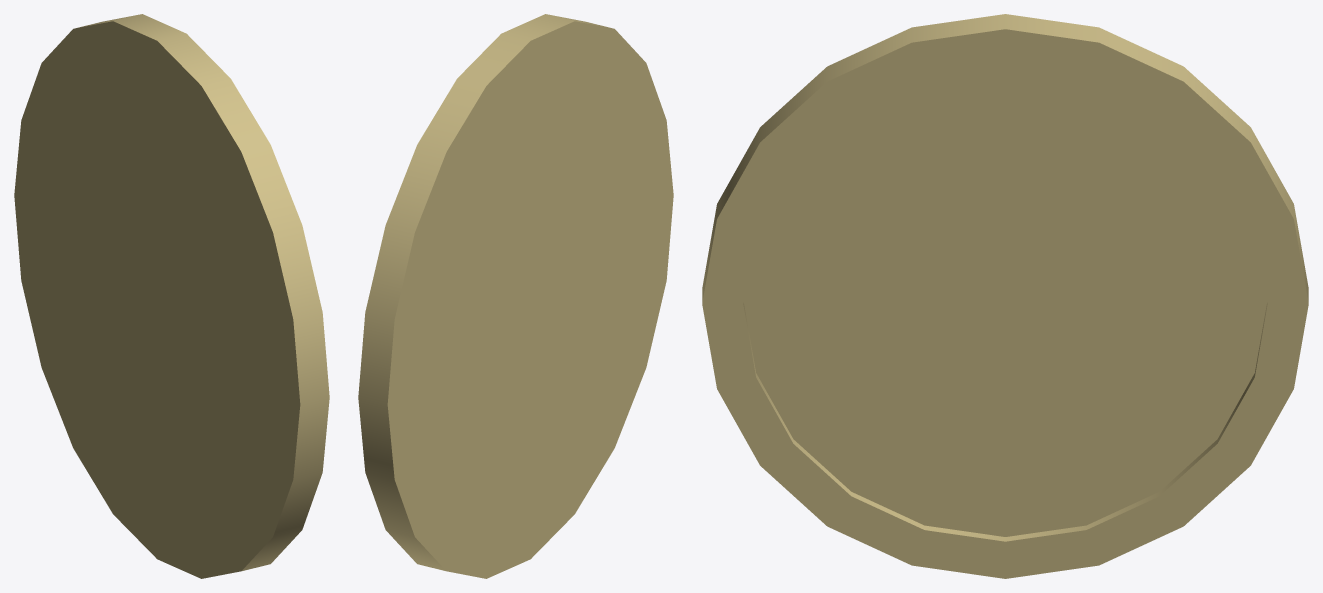
Rendered from Coin.fbx.
3 views of the same model, side by side, from view 1: azimuth 30°, elevation 25°; view 2: azimuth 150°, elevation 25°; view 3: azimuth 270°, elevation 25° (orthographic). The views are drawn at different scales.
Visible parts, largest first — view 1: pCylinder1; view 2: pCylinder1; view 3: pCylinder1.
Part boxes in pixels (bbox=[...]): pCylinder1: bbox=[14, 14, 329, 578]; pCylinder1: bbox=[358, 14, 673, 578]; pCylinder1: bbox=[702, 14, 1308, 578].
Bounding box in the file's own units: 0.1186 × 2 × 2.
